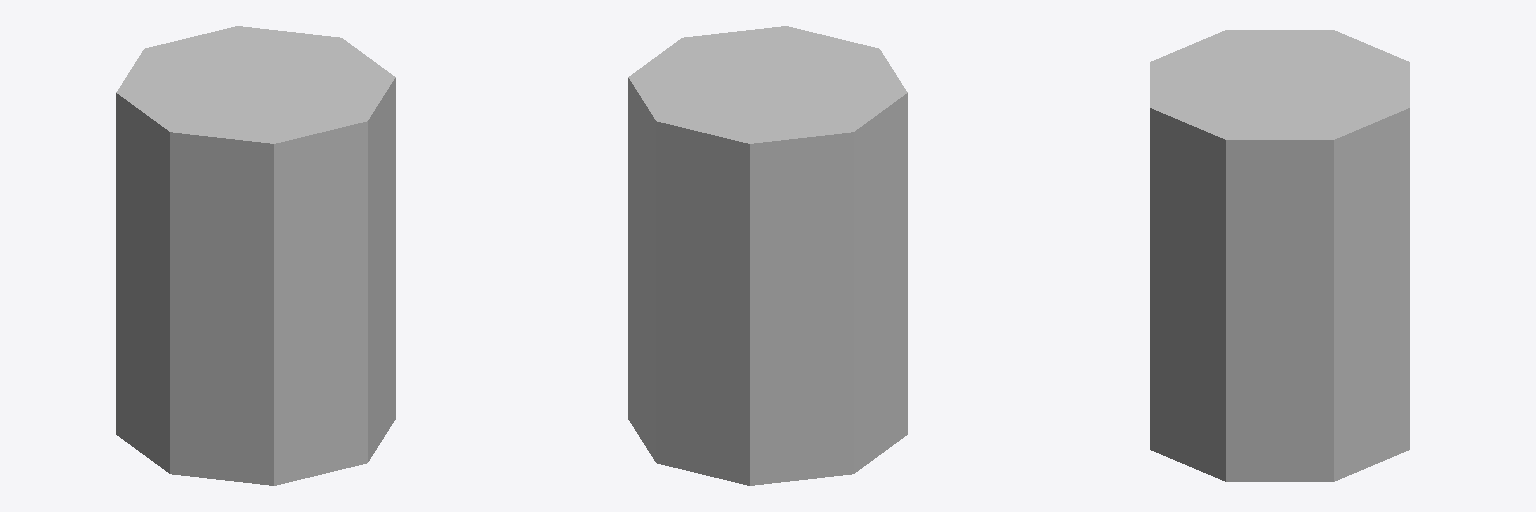
File: pipe_fittings.obj
3 views of the same model, side by side, from view 1: azimuth 30°, elevation 25°; view 2: azimuth 150°, elevation 25°; view 3: azimuth 270°, elevation 25° (orthographic).
Parts seen in each view (by area): view 1: pipe_pipemp; view 2: pipe_pipemp; view 3: pipe_pipemp.
Part boxes in pixels (x1,y1,x2,y2): pipe_pipemp: (116, 26, 395, 485); pipe_pipemp: (628, 26, 907, 485); pipe_pipemp: (1150, 30, 1409, 481).
Size of the model in its own units: 0.2587 by 0.375 by 0.2587.